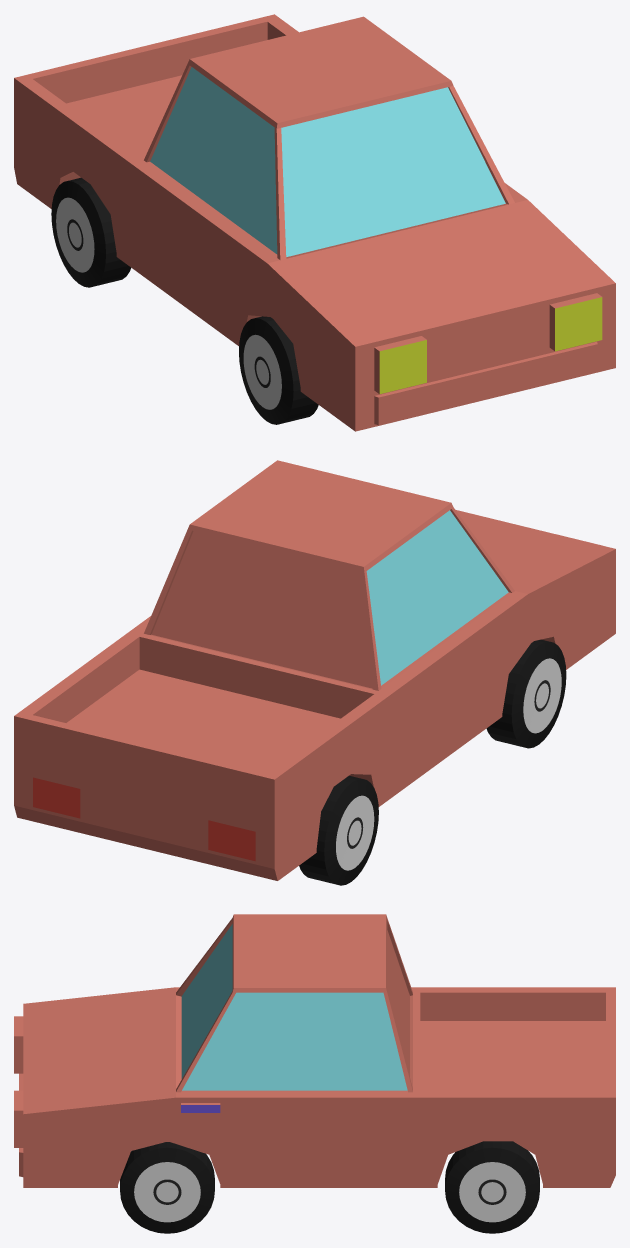
File: Low poly car 2.fbx
3 renders of one model, top to bottom at view 1: azimuth 30°, elevation 25°; view 2: azimuth 150°, elevation 25°; view 3: azimuth 270°, elevation 25°, orthographic. The views are drawn at different scales.
Visible parts, largest first — view 1: Cube, Cube.005, Cube.006, Cube.010, Cube.003, Cube.002, Cube.004; view 2: Cube, Cube.005, Cube.010, Cube.003, Cube.008, Cube.002, Cube.004; view 3: Cube, Cube.005, Cube.012, Cube.001, Cube.009, Cube.011.
Boxes of the visible parts, x1,y1,x2,y2 form: Cube: (14, 14, 615, 431); Cube.005: (150, 67, 505, 256); Cube.006: (379, 297, 602, 393); Cube.010: (51, 177, 130, 287); Cube.003: (239, 316, 318, 424); Cube.002: (243, 334, 281, 409); Cube.004: (56, 197, 94, 272); Cube: (14, 460, 615, 880); Cube.005: (366, 510, 508, 685); Cube.010: (299, 775, 378, 885); Cube.003: (486, 639, 566, 748); Cube.008: (33, 777, 255, 861); Cube.002: (523, 658, 561, 733); Cube.004: (336, 795, 374, 870); Cube: (14, 914, 615, 1187); Cube.005: (181, 924, 407, 1090); Cube.012: (445, 1141, 539, 1233); Cube.001: (120, 1142, 214, 1233); Cube.009: (134, 1162, 200, 1222); Cube.011: (459, 1162, 525, 1222).
Size of the model in its own units: 874 by 762 by 1859.
